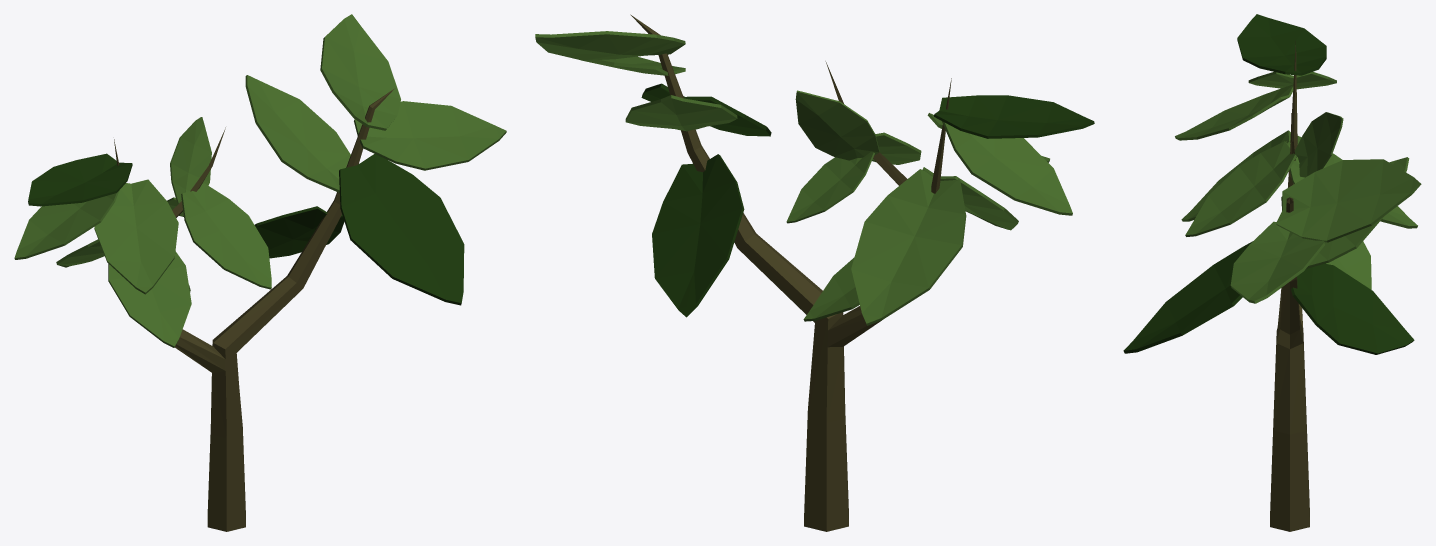
The model's file is 뱅갈고무나무.fbx.
3 views of the same model, side by side, from view 1: azimuth 30°, elevation 25°; view 2: azimuth 150°, elevation 25°; view 3: azimuth 270°, elevation 25° (orthographic). The views are drawn at different scales.
Parts seen in each view (by area): view 1: Cylinder001; view 2: Cylinder001; view 3: Cylinder001.
Part boxes in pixels (left/top/right/bottom): Cylinder001: left=14, top=14, right=506, bottom=531; Cylinder001: left=535, top=14, right=1094, bottom=531; Cylinder001: left=1123, top=14, right=1421, bottom=531.
Size of the model in its own units: 218 by 182 by 113.
